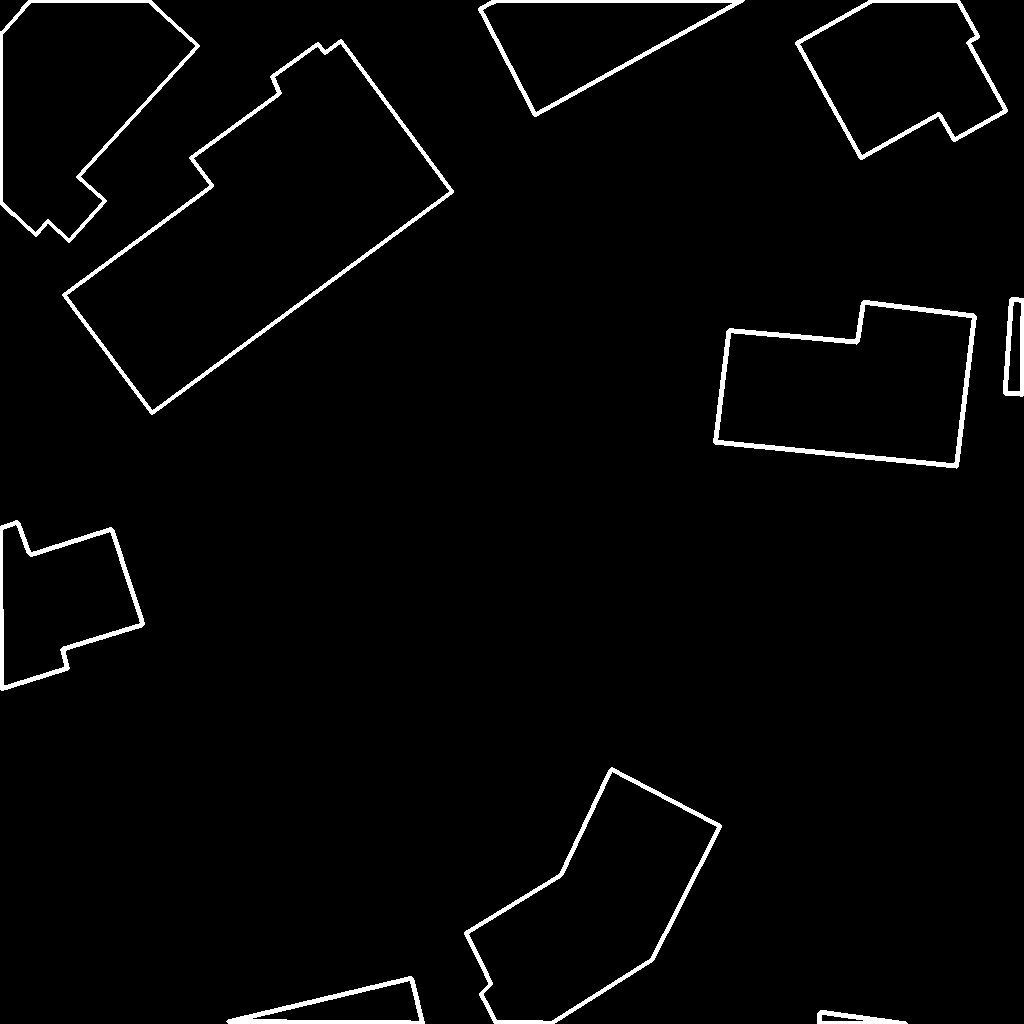building: (64, 41, 453, 414), (466, 769, 721, 1024), (0, 0, 199, 242), (715, 302, 976, 467), (797, 0, 1007, 159), (480, 0, 744, 116), (0, 522, 144, 690), (226, 978, 424, 1024), (1005, 299, 1024, 395), (819, 1012, 908, 1024)
